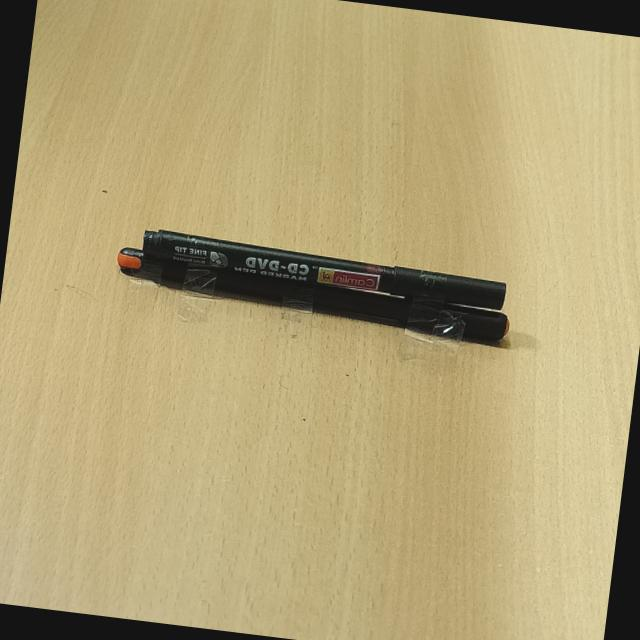marker: (110, 213, 528, 305)
pen: (92, 250, 522, 346)
